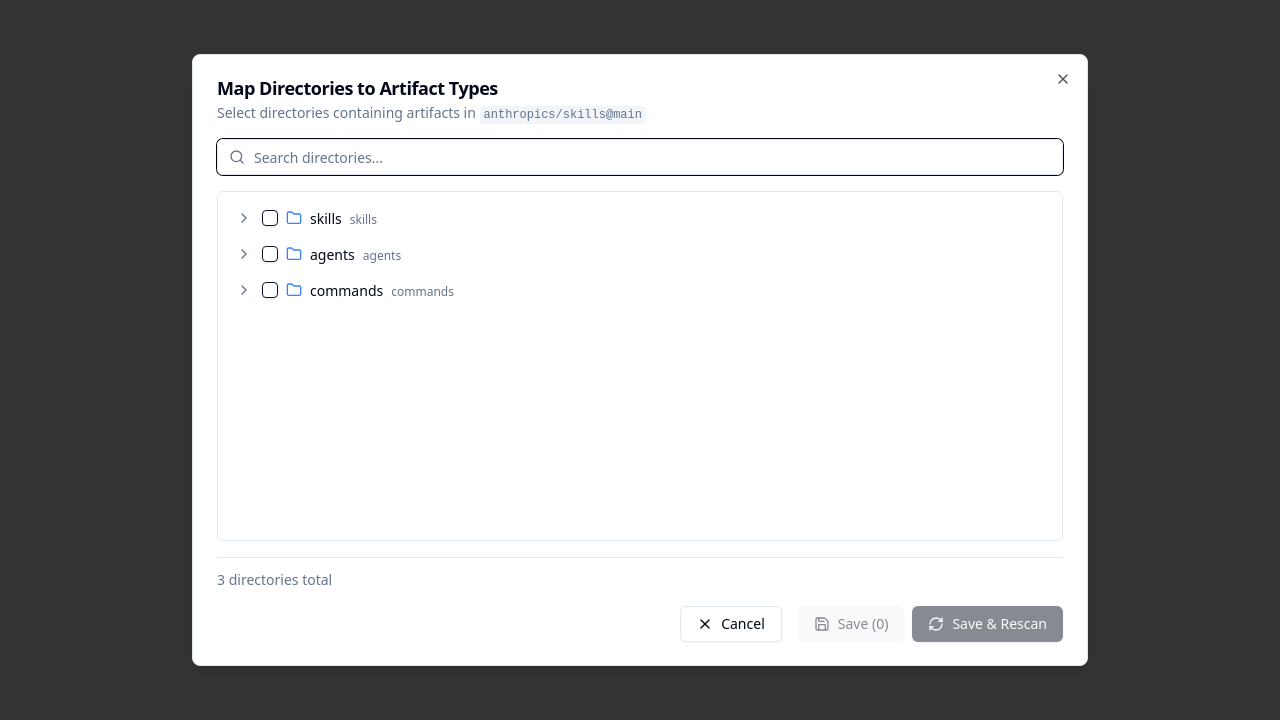
Test: DirectoryMapModal › directory selection › shows type selector when directory is selected
Click the checkbox named "Select skills directory" at (270, 218), box [262,210,278,226]
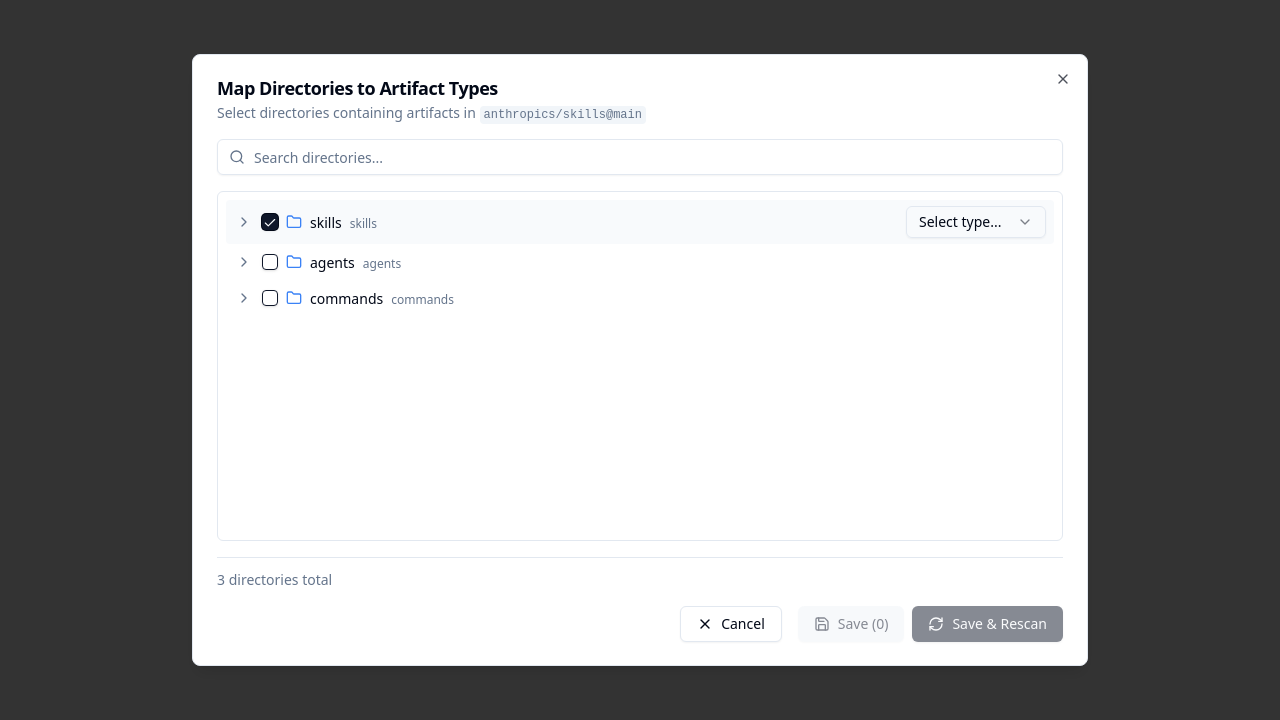
Check: the text "Select type..." is shown, box [919,212,1002,232]
